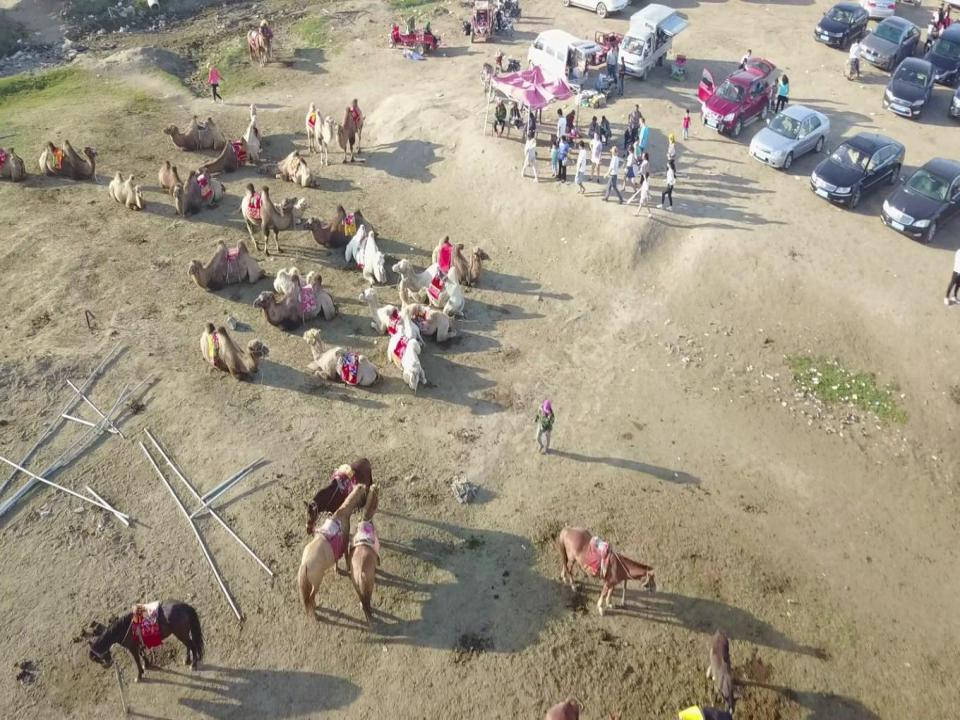car: (810, 131, 912, 206), (880, 159, 960, 247), (699, 61, 780, 137), (748, 105, 832, 170), (880, 57, 935, 120), (863, 16, 919, 71), (815, 2, 870, 50), (926, 16, 960, 85)
truck: (618, 0, 690, 78)
van: (530, 30, 598, 94)
